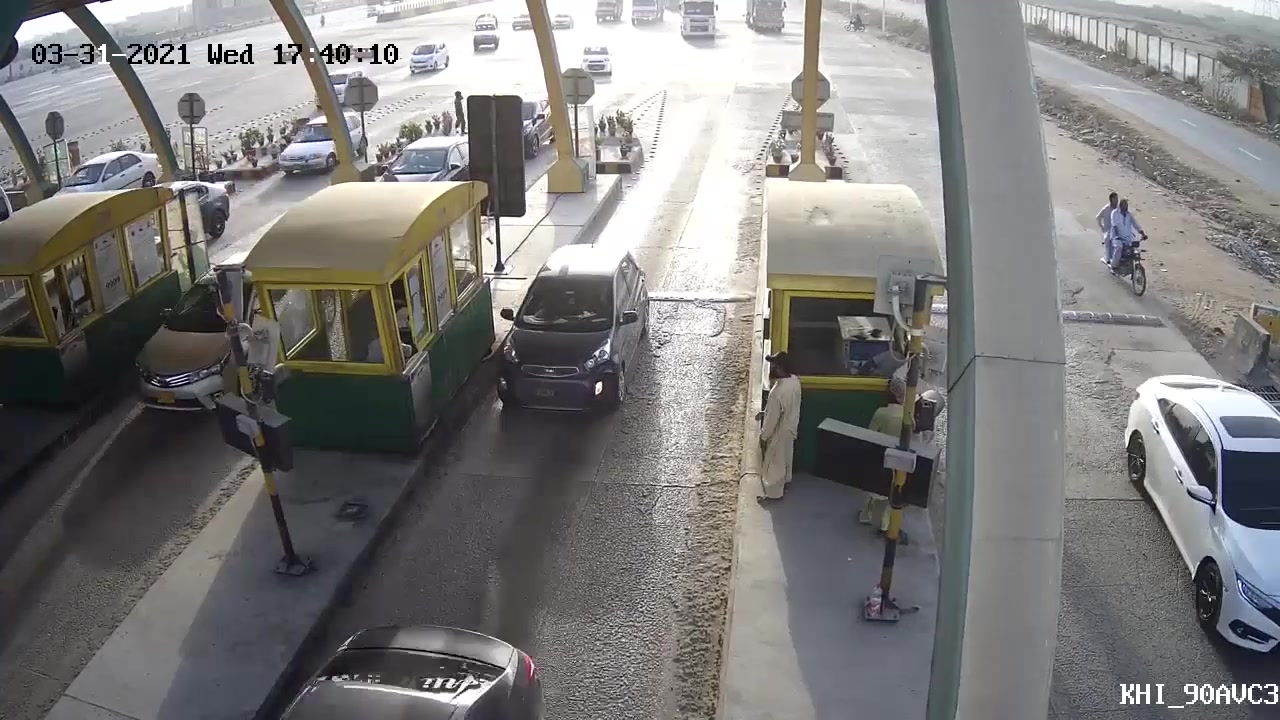F1: (470, 240, 647, 416)
